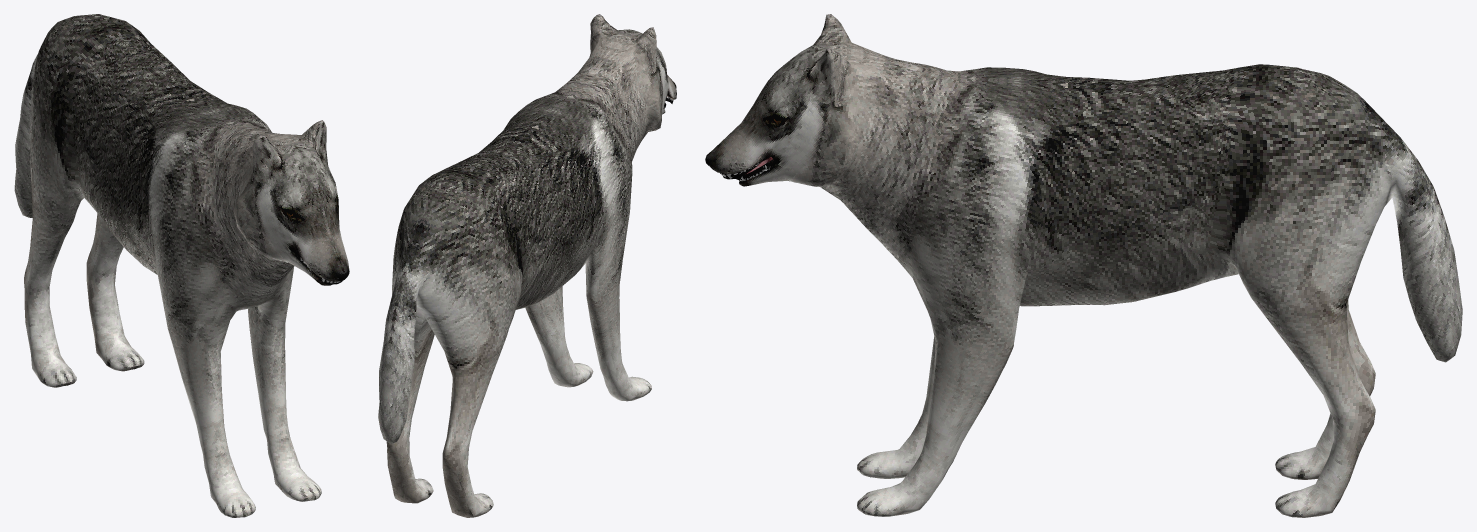
File: natural-wolf-quiet.glb
3 renders of one model, left to right at view 1: azimuth 30°, elevation 25°; view 2: azimuth 150°, elevation 25°; view 3: azimuth 270°, elevation 25°, orthographic. The views are drawn at different scales.
Visible parts, largest first — view 1: natural-wolf-quiet runtime mesh; view 2: natural-wolf-quiet runtime mesh; view 3: natural-wolf-quiet runtime mesh.
Part boxes in pixels (left/top/right/bottom): natural-wolf-quiet runtime mesh: left=14, top=14, right=349, bottom=517; natural-wolf-quiet runtime mesh: left=378, top=14, right=676, bottom=517; natural-wolf-quiet runtime mesh: left=705, top=14, right=1462, bottom=517.
Bounding box in the file's own units: 0.318 × 0.96 × 1.43.
1 material, 1 textured.
